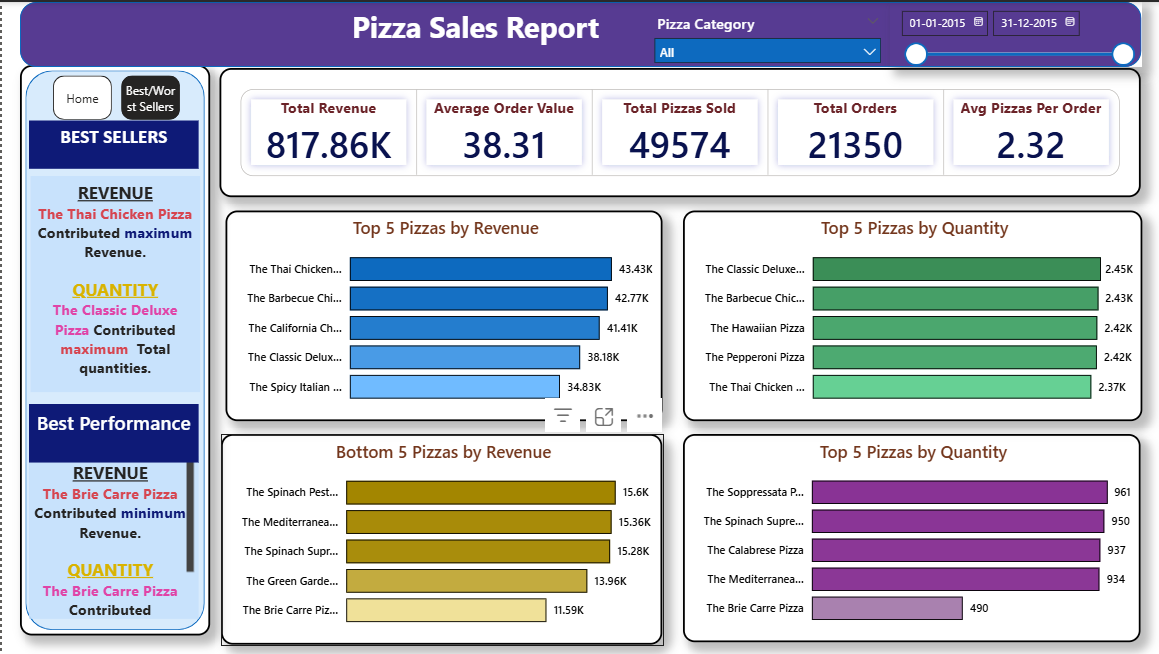

What the dashboard file says about the page in this screenshot:
{"tool":"powerbi","page":{"name":"Best/Worst Sellers","canvas":[1280,720],"ordinal":1},"visuals":[{"type":"shape","box":[20,70,210,630],"z":0},{"type":"cardVisual","fields":{"Data":["pizza_sales.Total Revenue","pizza_sales.Average Order Value","pizza_sales.Total Pizzas Sold","pizza_sales.Total Orders","pizza_sales.Avg Pizzas Per Order"]},"box":[240,72.5,1017.5,142.5],"z":1000},{"type":"shape","box":[20,0,1238.3,71.7],"z":2000},{"type":"textbox","box":[343.3,0,360,71.7],"z":3000},{"type":"clusteredBarChart","title":"Top 5 Pizzas by Revenue","fields":{"Category":["pizza_sales.pizza_name"],"Y":["pizza_sales.Total Revenue"]},"box":[247.5,230,482.5,232.5],"z":4000},{"type":"textbox","box":[31.5,192.2,187.2,238.5],"z":5000},{"type":"textbox","box":[30.2,502.7,187.1,179.5],"z":6000},{"type":"textbox","box":[29.8,443.9,187.2,64.6],"z":7000},{"type":"textbox","box":[29.8,130.9,187.2,53],"z":8000},{"type":"slicer","fields":{"Values":["pizza_sales.pizza_category"]},"box":[710,6.7,270,65],"z":9000},{"type":"slicer","fields":{"Values":["pizza_sales.order_date"]},"box":[980,0,278.3,71.7],"z":10000},{"type":"clusteredBarChart","title":"Bottom 5 Pizzas by Revenue","fields":{"Category":["pizza_sales.pizza_name"],"Y":["pizza_sales.Total Revenue"]},"box":[242.5,477.5,487.5,232.5],"z":11000},{"type":"clusteredBarChart","title":"Top 5 Pizzas by Quantity","fields":{"Category":["pizza_sales.pizza_name"],"Y":["pizza_sales.Total Pizzas Sold"]},"box":[752.5,230,507.5,232.5],"z":12000},{"type":"clusteredBarChart","title":"Top 5 Pizzas by Quantity","fields":{"Category":["pizza_sales.pizza_name"],"Y":["pizza_sales.Total Pizzas Sold"]},"box":[752.5,477.5,505,230],"z":13000},{"type":"pageNavigator","box":[56.3,81.2,140.8,49.7],"z":14000}]}

Visuals, with their boxes in screenshot pixels (x1, y1, x2, y2), scaled from the page's 1280x720 canvas onto the 1159x654 screenshot:
shape: region(18, 64, 208, 636)
cardVisual - pizza_sales.Total Revenue x pizza_sales.Average Order Value: region(217, 66, 1139, 195)
shape: region(18, 0, 1139, 65)
textbox: region(311, 0, 637, 65)
"Top 5 Pizzas by Revenue" clusteredBarChart: region(224, 209, 661, 420)
textbox: region(29, 175, 198, 391)
textbox: region(27, 457, 197, 620)
textbox: region(27, 403, 196, 462)
textbox: region(27, 119, 196, 167)
slicer - pizza_sales.pizza_category: region(643, 6, 887, 65)
slicer - pizza_sales.order_date: region(887, 0, 1139, 65)
"Bottom 5 Pizzas by Revenue" clusteredBarChart: region(220, 434, 661, 645)
"Top 5 Pizzas by Quantity" clusteredBarChart: region(681, 209, 1141, 420)
"Top 5 Pizzas by Quantity" clusteredBarChart: region(681, 434, 1139, 643)
pageNavigator: region(51, 74, 178, 119)
